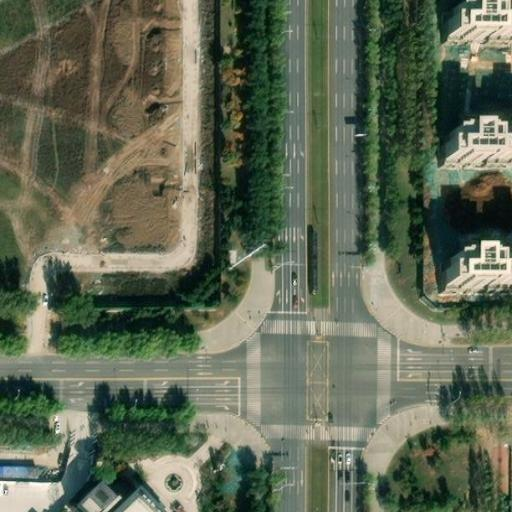building: (77, 479, 168, 512), (443, 132, 512, 165), (444, 257, 512, 290), (447, 8, 512, 40), (0, 468, 45, 478)
